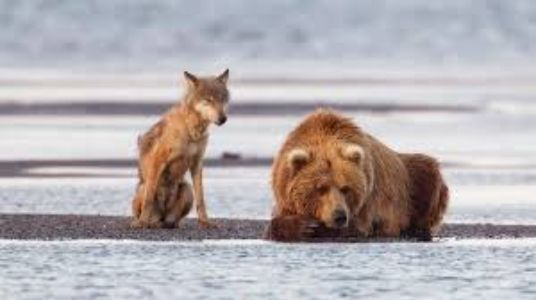bear: (273, 103, 452, 248)
wolf: (130, 64, 235, 231)
